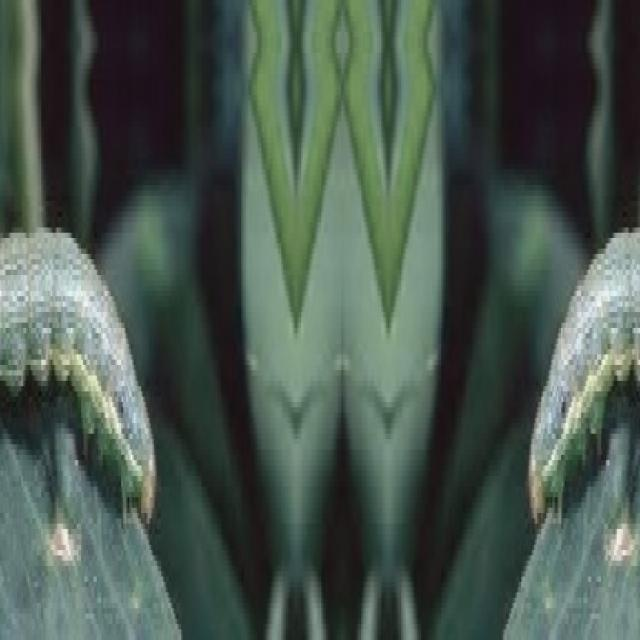armyworm: (0, 217, 157, 529), (526, 211, 639, 529)
